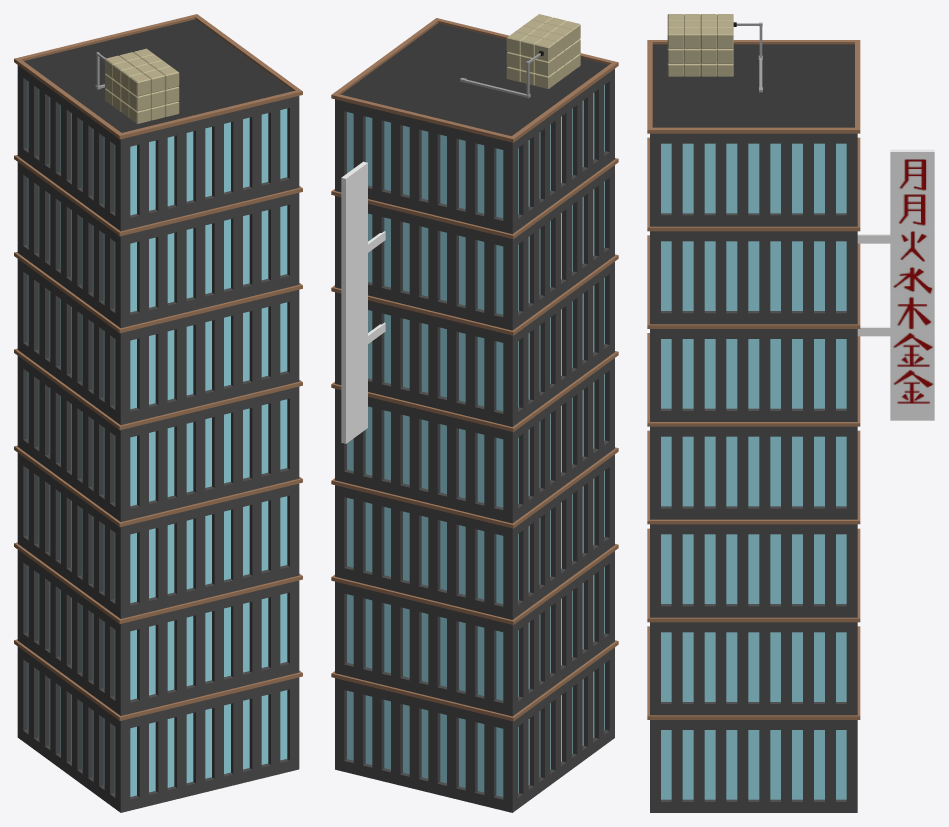
Rendered from build4.fbx.
3 views of the same model, side by side, from view 1: azimuth 30°, elevation 25°; view 2: azimuth 150°, elevation 25°; view 3: azimuth 270°, elevation 25° (orthographic).
Parts seen in each view (by area): view 1: 立方体; view 2: 立方体, 立方体.001; view 3: 立方体, 立方体.001.
Boxes of the visible parts, bbox=[...] form: 立方体: bbox=[14, 14, 302, 812]; 立方体: bbox=[331, 14, 618, 812]; 立方体.001: bbox=[341, 161, 385, 443]; 立方体: bbox=[647, 14, 860, 812]; 立方体.001: bbox=[857, 149, 934, 420].
Size of the model in its own units: 727 by 539 by 2020.
